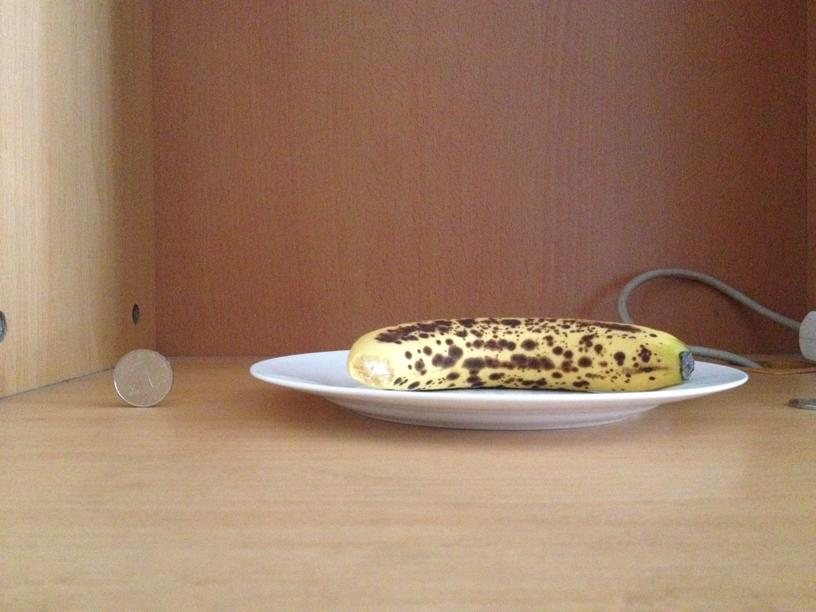banana: (354, 317, 694, 391)
coin: (111, 346, 173, 408)
